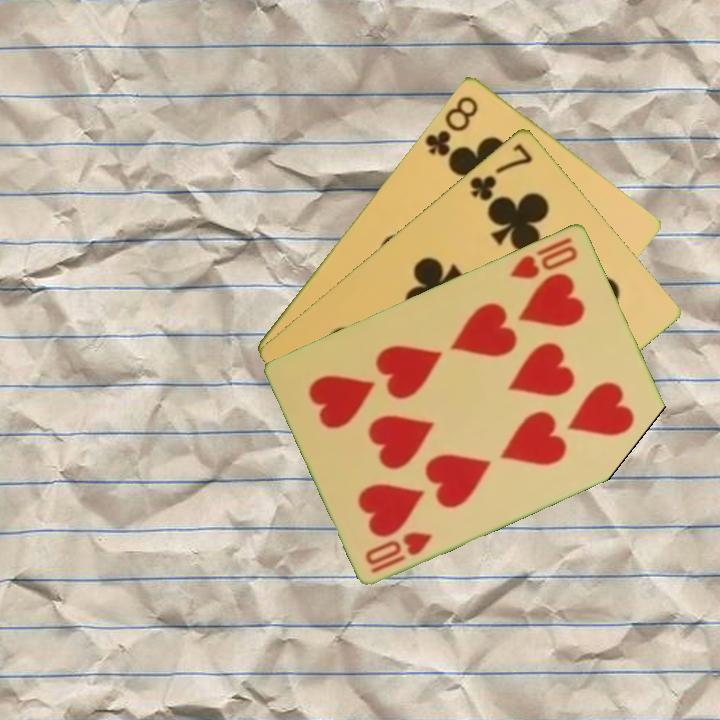10h: (506, 233, 581, 282), (361, 527, 436, 576)
7c: (466, 139, 536, 204)
8c: (421, 91, 482, 159)
